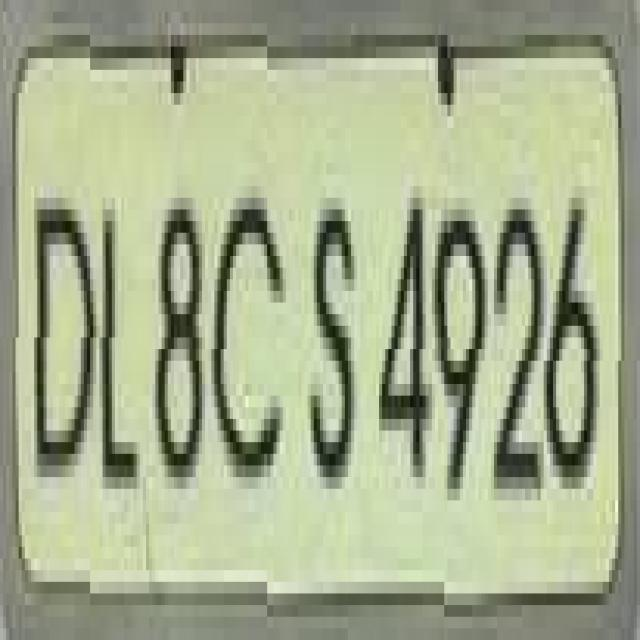plate: (0, 23, 618, 605)
